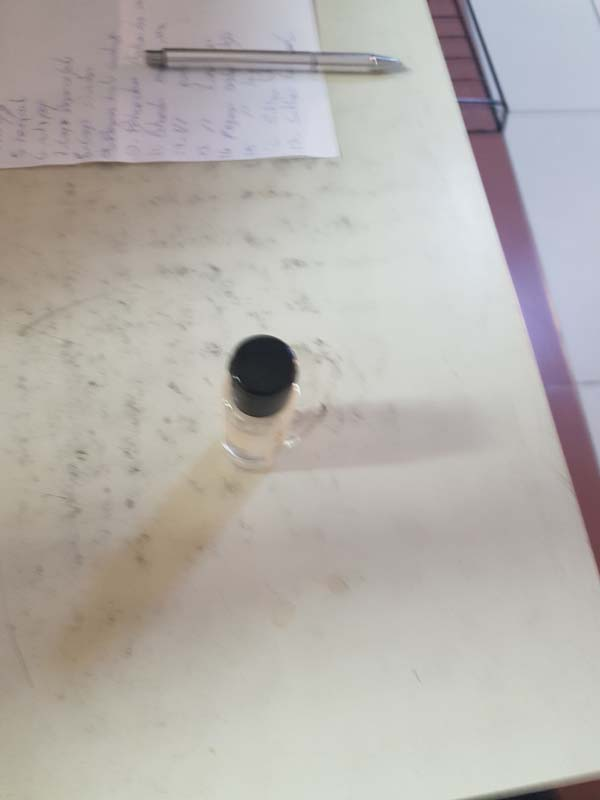redbulkolonya: (215, 332, 306, 480)
